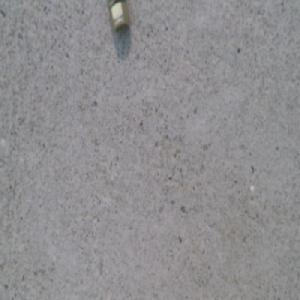BoltNutSet: (109, 0, 129, 37)
